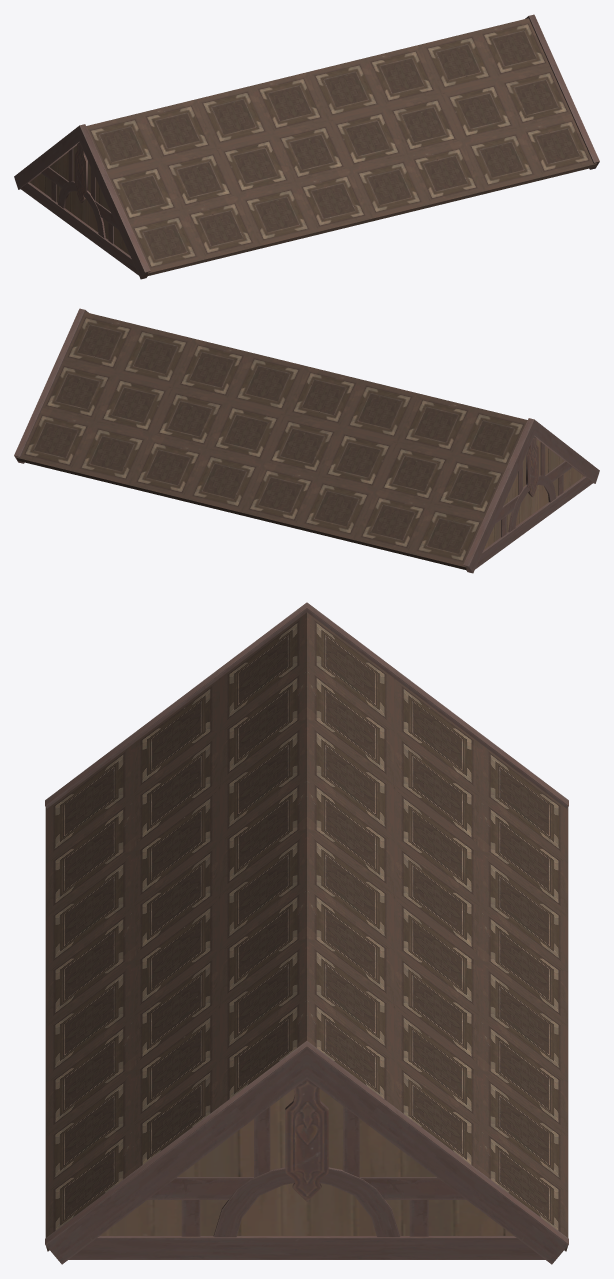
File: Homeworld_Interior_Ly_Room_M_Ceiling_01_Vo.fbx
The picture shows the model from 3 angles, top to bottom: view 1: azimuth 30°, elevation 25°; view 2: azimuth 150°, elevation 25°; view 3: azimuth 270°, elevation 25°; orthographic projection. The views are drawn at different scales.
Parts seen in each view (by area): view 1: Homeworld_Interior_Dq_Room_Ceiling_02_Vo (×4), Homeworld_Interior_Ly_Room_Ceiling_01_Vo (×2); view 2: Homeworld_Interior_Dq_Room_Ceiling_02_Vo (×4), Homeworld_Interior_Ly_Room_Ceiling_01_Vo (×2); view 3: Homeworld_Interior_Dq_Room_Ceiling_02_Vo (×4), Homeworld_Interior_Ly_Room_Ceiling_01_Vo (×2).
Part boxes in pixels (x1,y1,x2,y2): Homeworld_Interior_Dq_Room_Ceiling_02_Vo (×4): [86, 18, 596, 276]; Homeworld_Interior_Ly_Room_Ceiling_01_Vo (×2): [14, 14, 599, 279]; Homeworld_Interior_Dq_Room_Ceiling_02_Vo (×4): [17, 312, 527, 570]; Homeworld_Interior_Ly_Room_Ceiling_01_Vo (×2): [14, 308, 599, 573]; Homeworld_Interior_Dq_Room_Ceiling_02_Vo (×4): [45, 612, 568, 1251]; Homeworld_Interior_Ly_Room_Ceiling_01_Vo (×2): [45, 602, 568, 1264].
Bounding box in the file's own units: 20.26 × 4.65 × 10.11.
